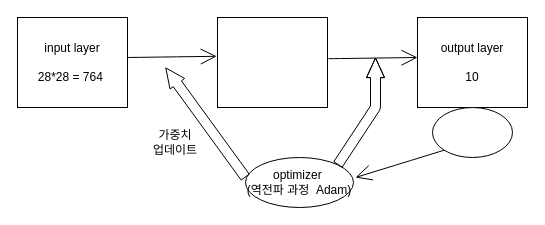
Some shapes in this 545 by 225 pixel diagram are drawn without their labels. The shapes that lost their labels are listed below. From the top down, each one's box as (x1, y1, x2, y2) in pixels, then its label:
(216, 16, 328, 108): hidden layer 1. 256 2. 128
(432, 106, 512, 158): NLLLoss
